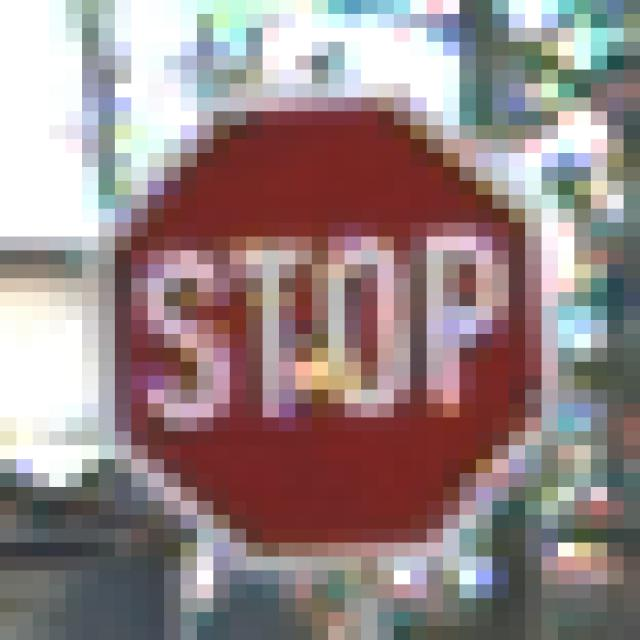STOP: (83, 85, 543, 558)
